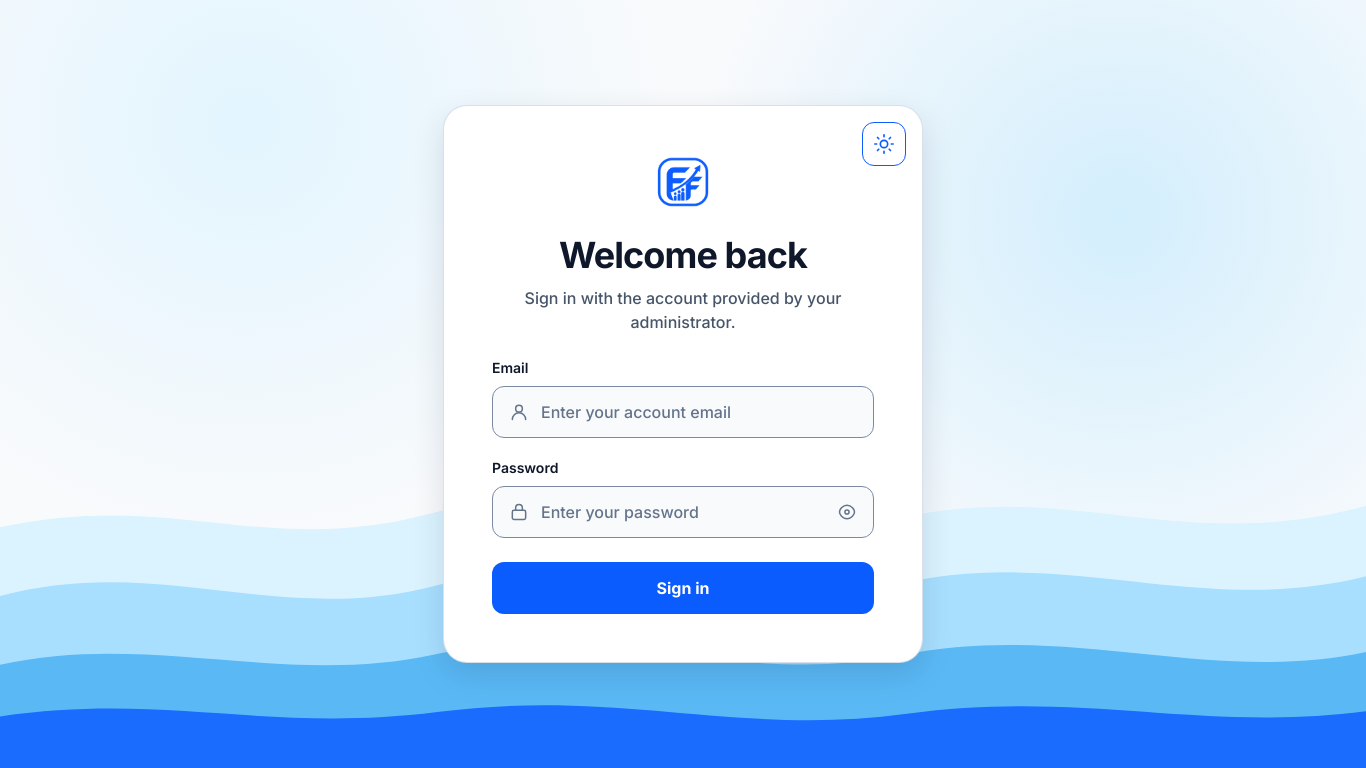
Test: browser Auth through feature API and HTTP envelopes › shows safe credential denial without raw backend details
Type "learner@example.test" into the field labelled "Email". click: {"x": 683, "y": 412}
box: [493,387,873,437]
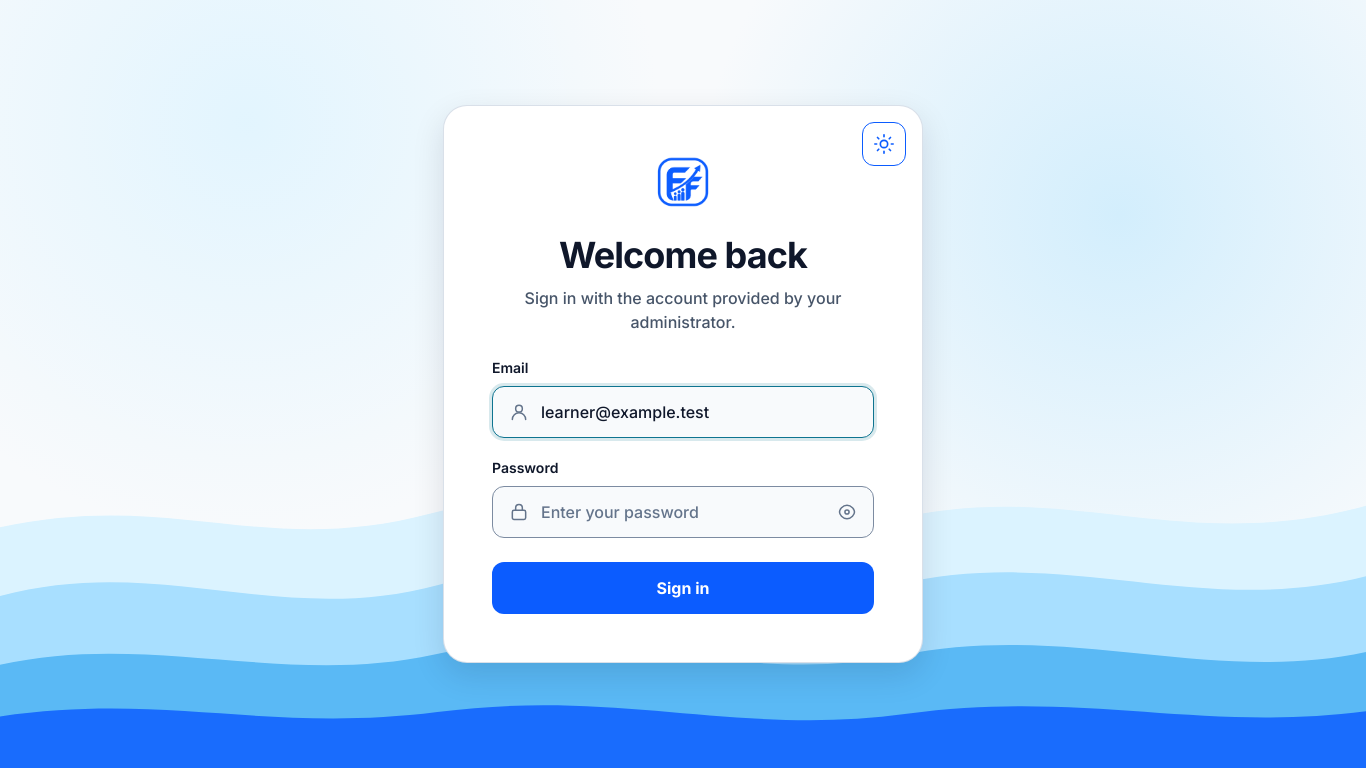
Type "wrong-password" into the password field labelled "Password". click: {"x": 683, "y": 512}
box: [493,487,873,537]
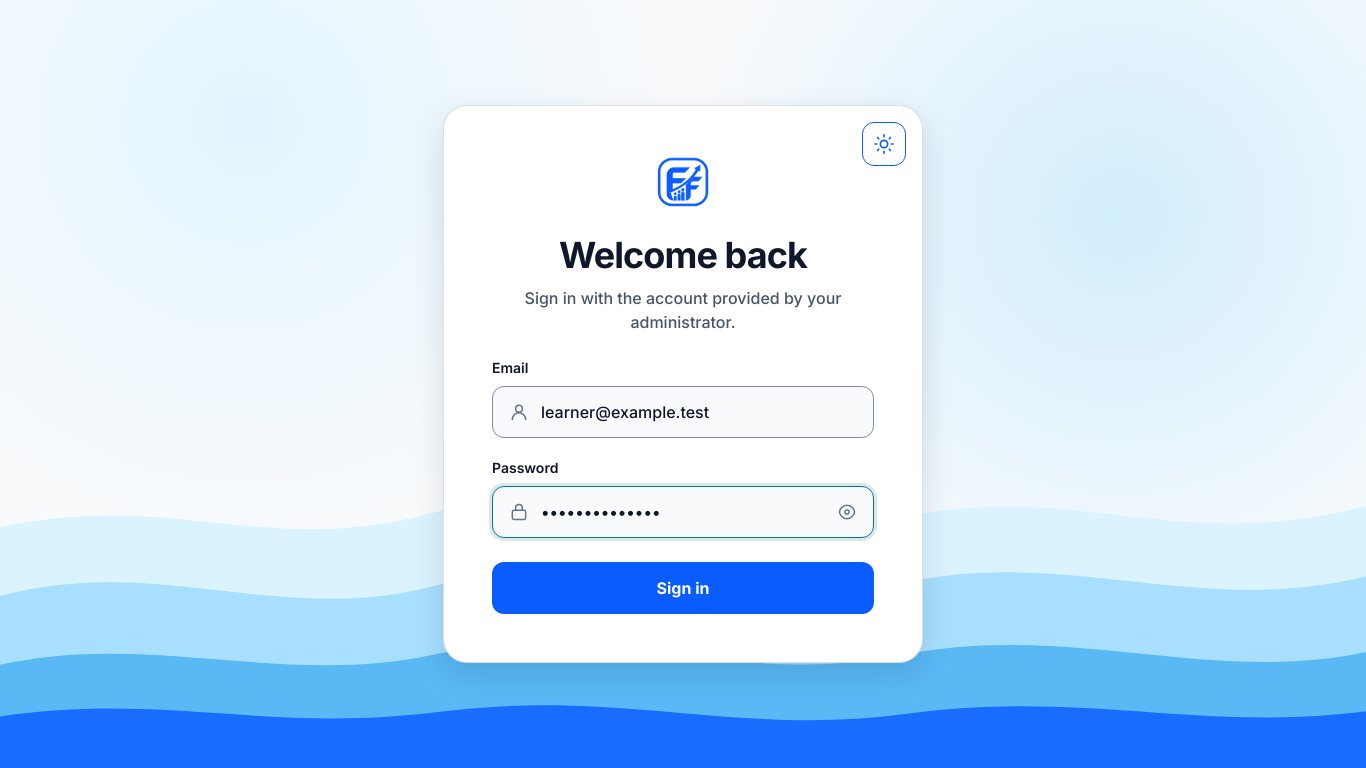
Click the button "Sign in". click: {"x": 683, "y": 588}
box: [492,562,874,614]
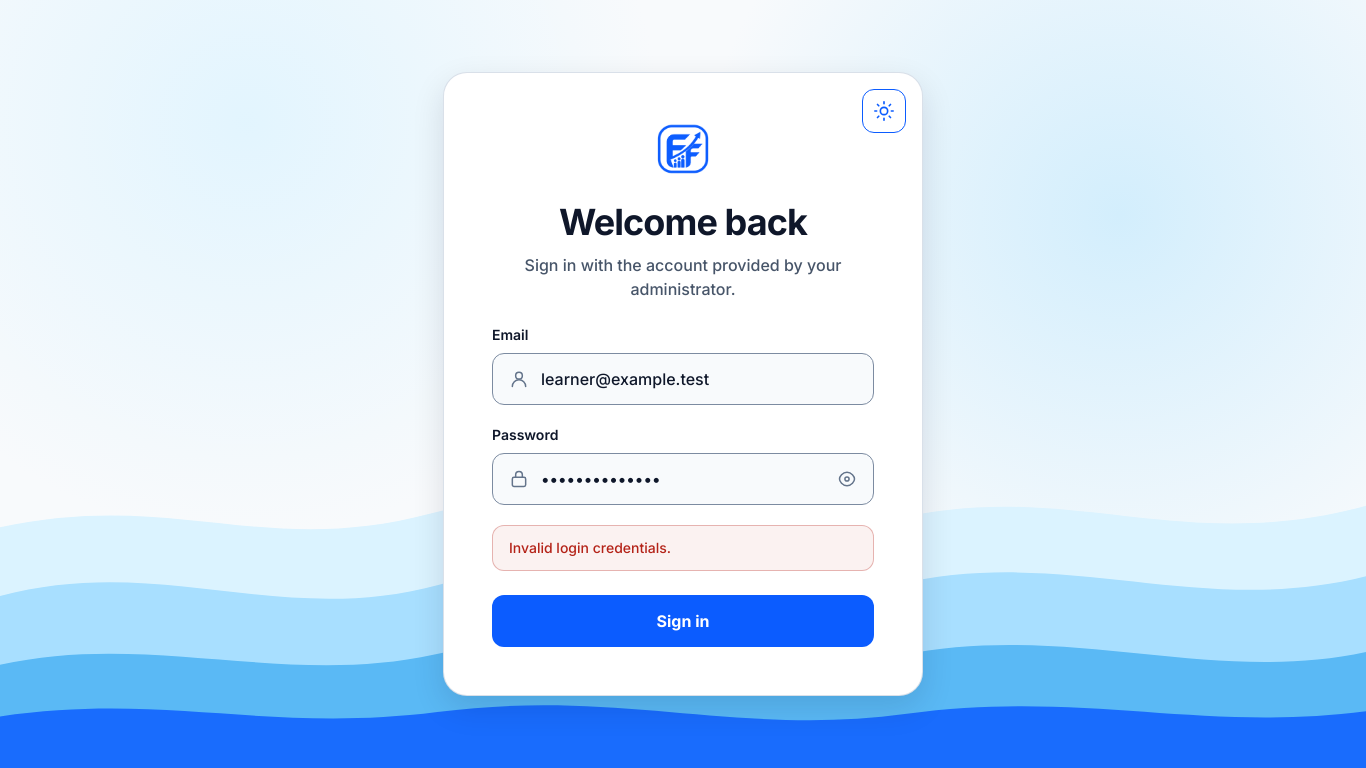
Check: the text "Invalid login credentials." is shown, box [492,525,874,571]
